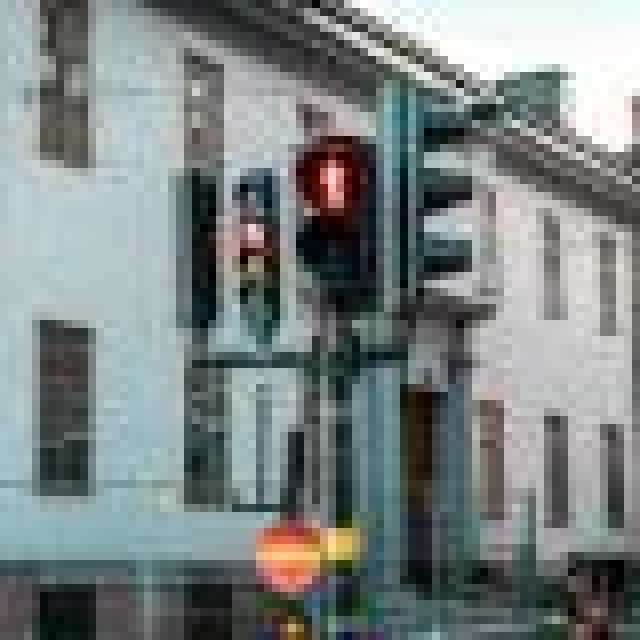redlight: (283, 133, 382, 306)
